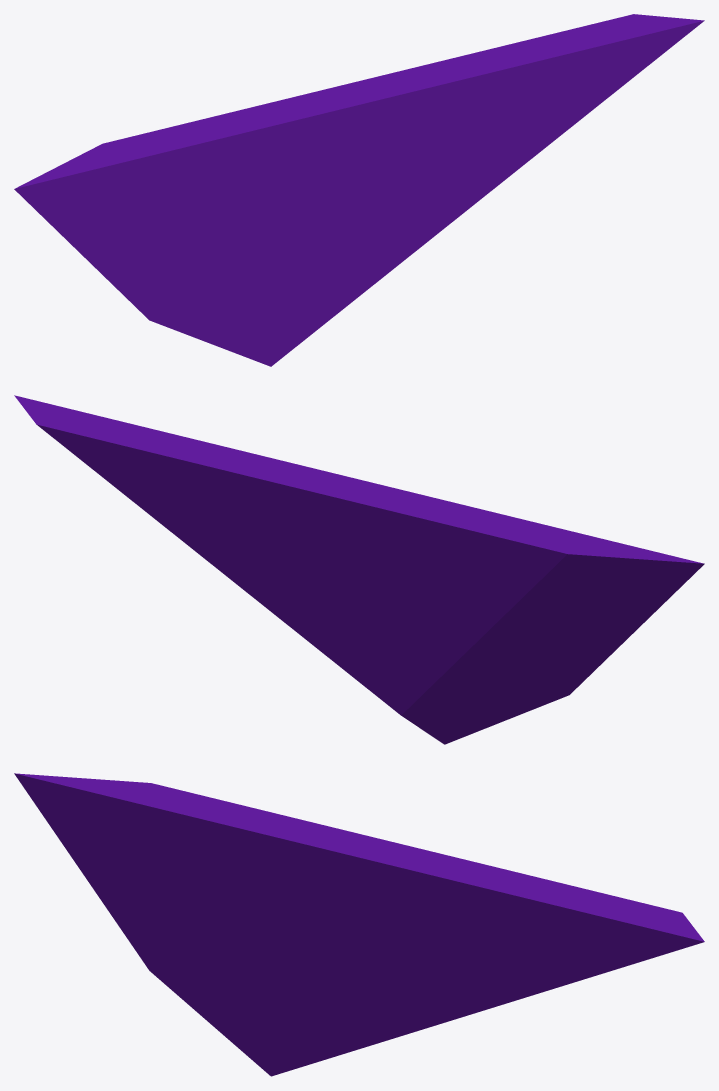
File: Band_11_2_chunks.fbx
3 views of the same model, one above another, from view 1: azimuth 30°, elevation 25°; view 2: azimuth 150°, elevation 25°; view 3: azimuth 330°, elevation 25° (orthographic).
Parts seen in each view (by area): view 1: Band_11_2_0; view 2: Band_11_2_0; view 3: Band_11_2_0.
Part boxes in pixels (bbox=[...]): Band_11_2_0: bbox=[14, 14, 704, 366]; Band_11_2_0: bbox=[14, 395, 704, 744]; Band_11_2_0: bbox=[14, 773, 704, 1076].
Bounding box in the file's own units: 140 × 46.48 × 8.55.
